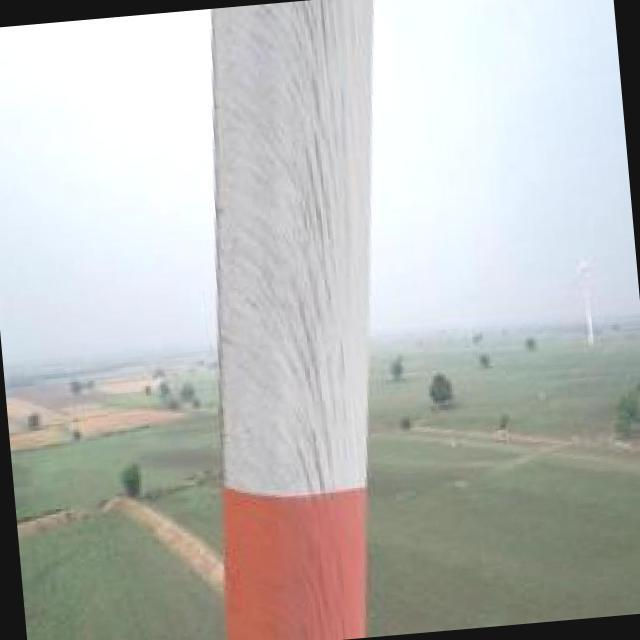Dirt: (209, 0, 361, 636)
